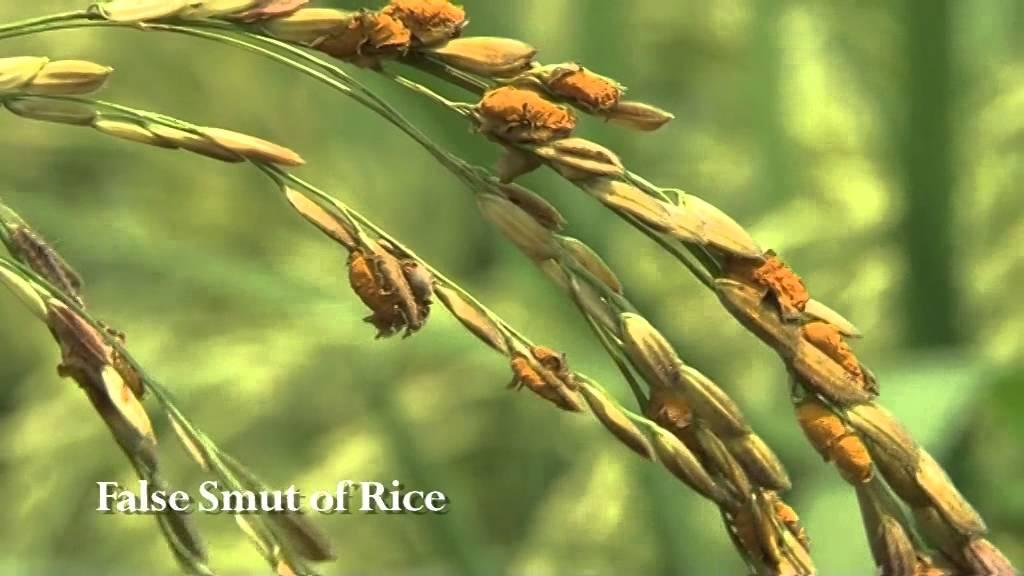False Smut: (693, 233, 832, 343), (330, 223, 442, 345), (318, 0, 480, 78), (467, 73, 585, 165), (730, 468, 827, 576), (783, 388, 885, 490), (512, 335, 598, 432), (792, 317, 878, 408), (545, 52, 632, 130), (630, 375, 708, 460)
